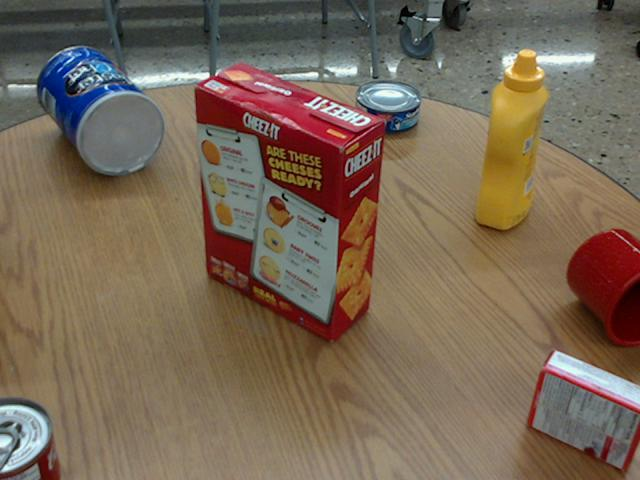cracker_box: (197, 64, 386, 339)
gelatin_box: (528, 351, 639, 470)
master_chef_can: (40, 47, 166, 175)
mug: (567, 228, 639, 346)
mustard_bottle: (475, 49, 549, 227)
potted_meat_can: (247, 86, 331, 196)
tomato_soup_can: (0, 397, 67, 479)
tuna_fish_can: (356, 78, 422, 132)
